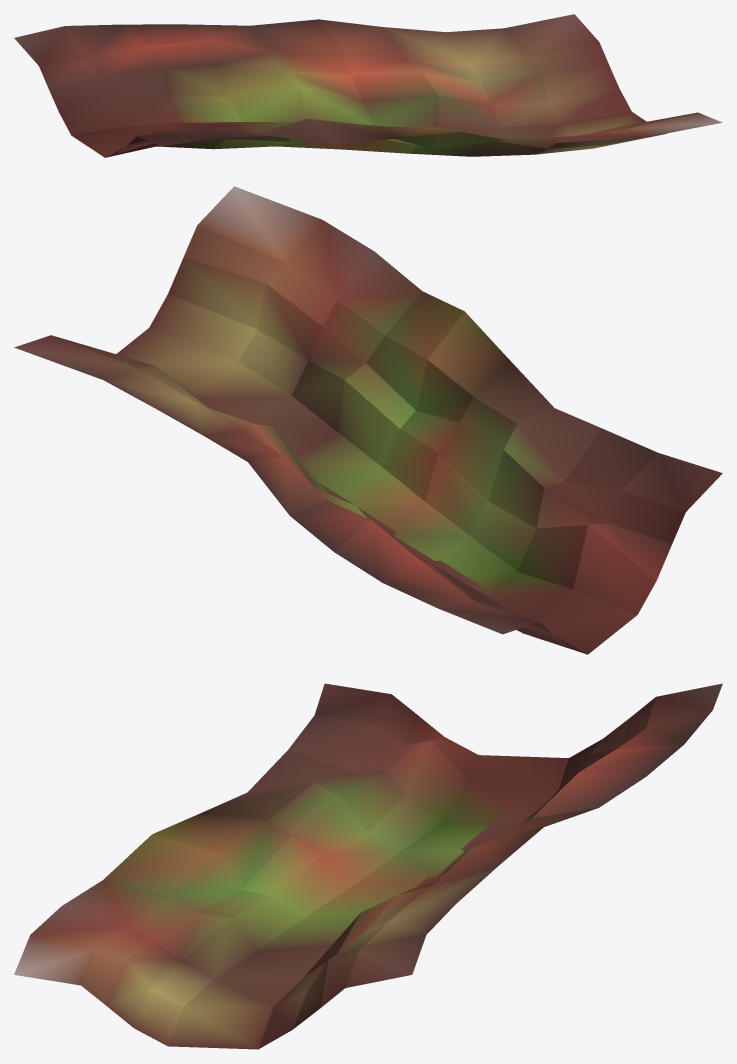
Rendered from TerrainStraightTwist.fbx.
3 views of the same model, one above another, from view 1: azimuth 30°, elevation 25°; view 2: azimuth 150°, elevation 25°; view 3: azimuth 270°, elevation 25° (orthographic). The views are drawn at different scales.
Visible parts, largest first — view 1: Plane.001; view 2: Plane.001; view 3: Plane.001.
Part boxes in pixels (box(x1,y1,x2,y2)): Plane.001: box(14, 14, 722, 157); Plane.001: box(14, 186, 722, 654); Plane.001: box(14, 683, 722, 1049).
Size of the model in its own units: 1000 by 151 by 1028.
